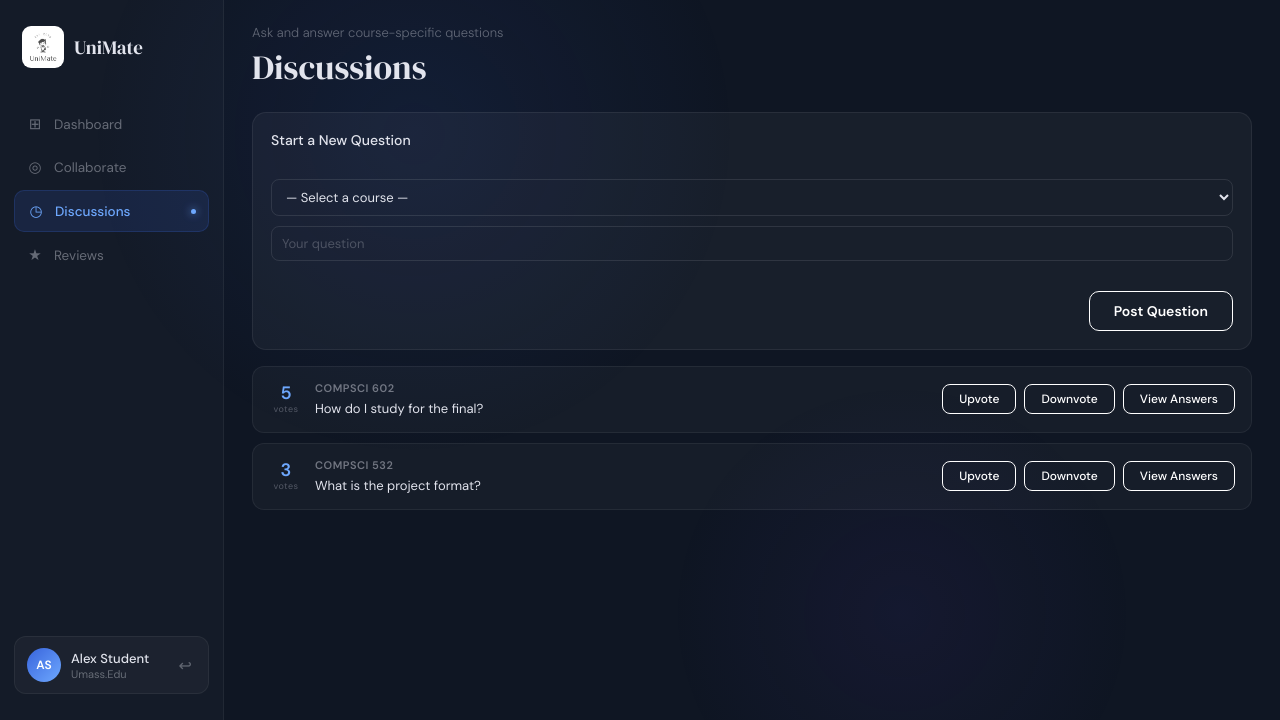
Test: DiscussionsPage › voting › shows error when vote fails
The width and height of the screenshot is (1280, 720).
Click the button "Upvote" in the row of "How do I study for the final?".
click(979, 399)  # box [942, 384, 1016, 414]
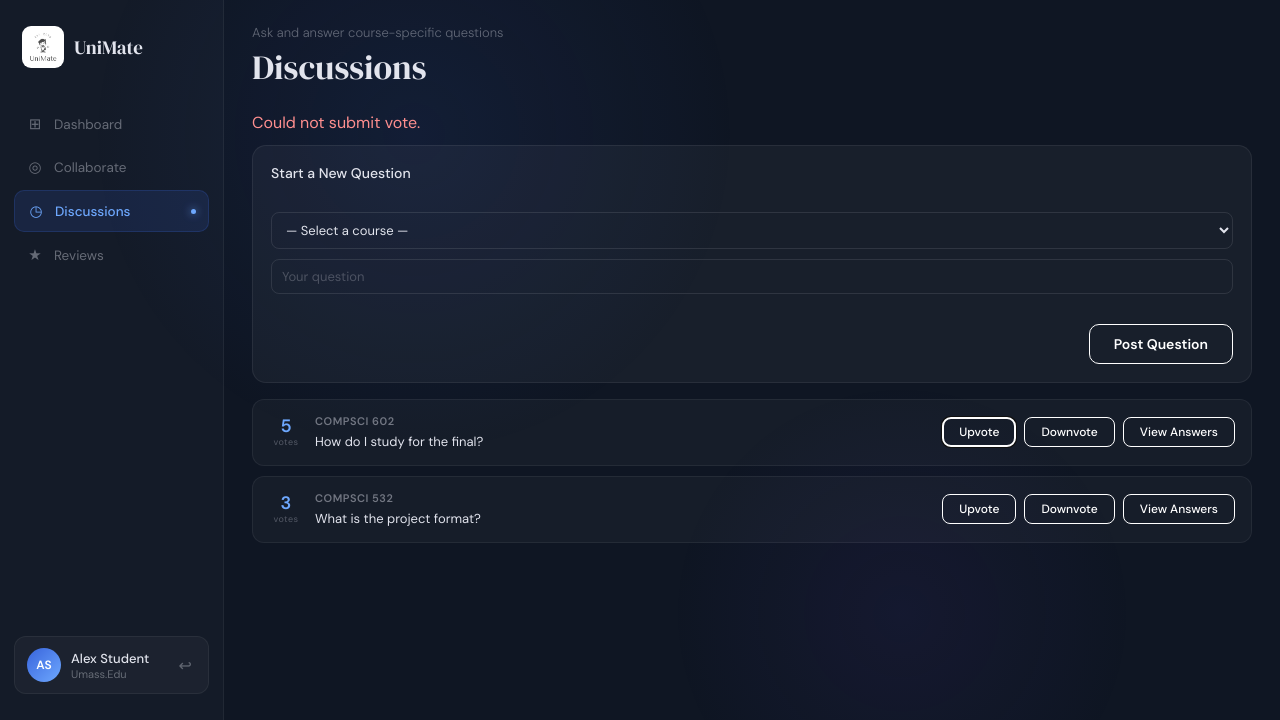
Check: the text "Could not submit vote." is shown, box [252, 112, 420, 133]
